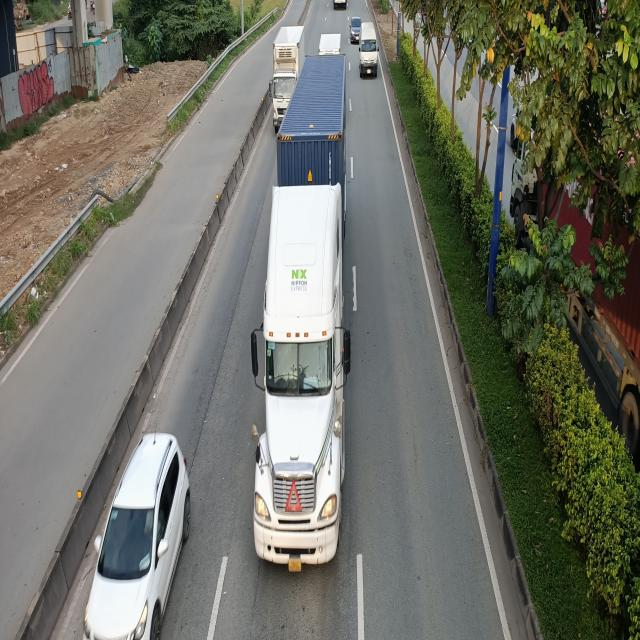car: (81, 434, 190, 640)
container: (251, 50, 351, 575)
truck: (267, 26, 304, 130)
van: (357, 23, 379, 79)
